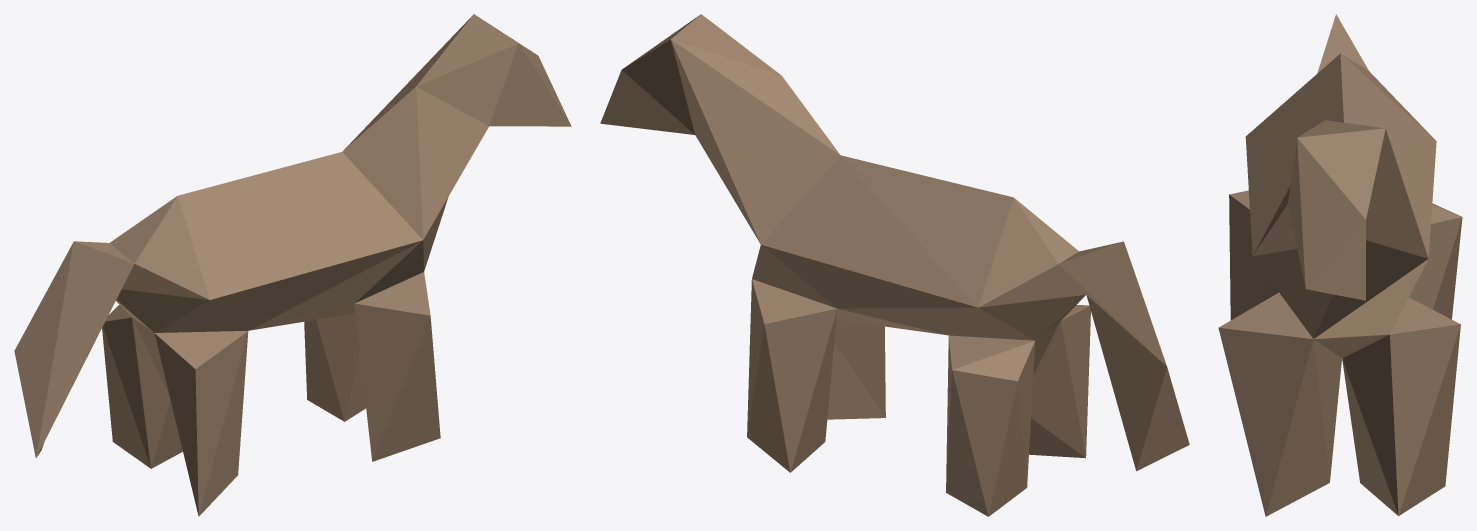
3 views of the same model, side by side, from view 1: azimuth 30°, elevation 25°; view 2: azimuth 150°, elevation 25°; view 3: azimuth 270°, elevation 25° (orthographic). The views are drawn at different scales.
Visible parts, largest first — view 1: part0; view 2: part0; view 3: part0.
Boxes of the visible parts, x1,y1,x2,y2 form: part0: [14, 14, 571, 516]; part0: [600, 14, 1189, 516]; part0: [1218, 14, 1462, 516].
Size of the model in its own units: 4.85 by 3.15 by 1.57.
